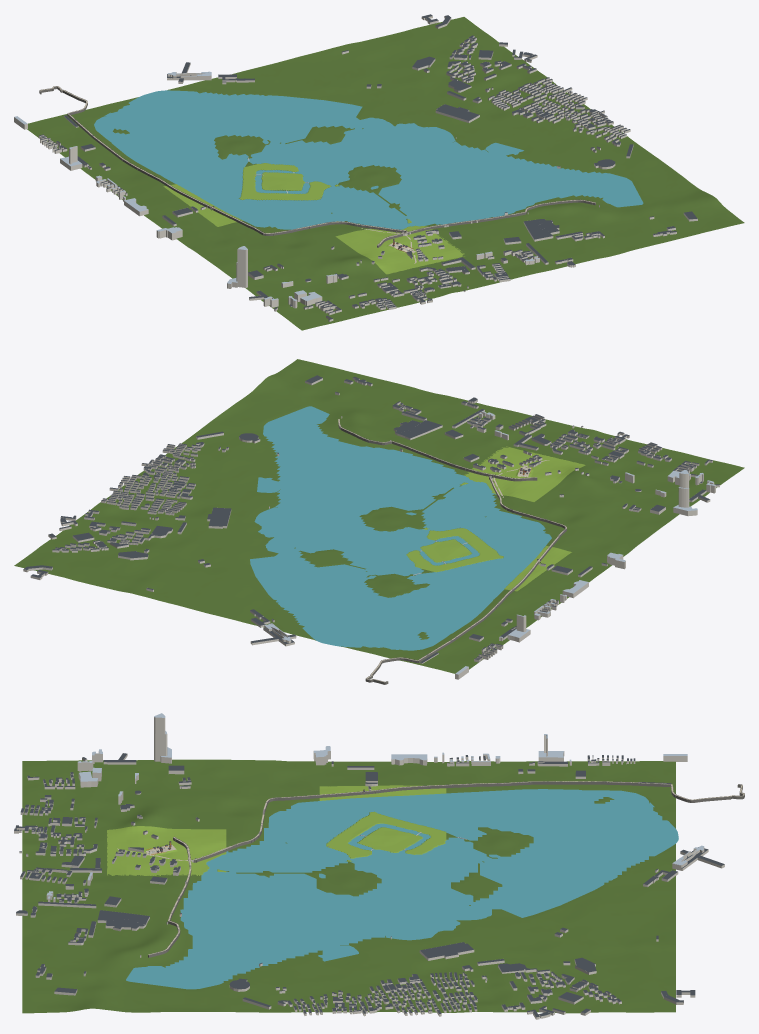
File: static.glb
The picture shows the model from 3 angles, top to bottom: view 1: azimuth 30°, elevation 25°; view 2: azimuth 150°, elevation 25°; view 3: azimuth 270°, elevation 25°; orthographic projection. The views are drawn at different scales.
Parts seen in each view (by area): view 1: Ground, Water, City, Temple, Walls; view 2: Ground, Water, City, Temple, Walls; view 3: Ground, Water, City, Temple, Walls.
Part boxes in pixels (x1=…): Ground: x1=27, y1=17, x2=744, y2=330; Water: x1=94, y1=90, x2=643, y2=250; City: x1=14, y1=16, x2=697, y2=321; Temple: x1=39, y1=14, x2=697, y2=319; Walls: x1=39, y1=86, x2=595, y2=247; Ground: x1=14, y1=359, x2=744, y2=682; Water: x1=250, y1=406, x2=551, y2=650; City: x1=23, y1=378, x2=719, y2=679; Temple: x1=23, y1=375, x2=719, y2=662; Walls: x1=338, y1=420, x2=566, y2=684; Ground: x1=22, y1=759, x2=744, y2=1013; Water: x1=126, y1=789, x2=678, y2=989; City: x1=14, y1=713, x2=724, y2=1019; Temple: x1=14, y1=753, x2=724, y2=1017; Walls: x1=148, y1=781, x2=744, y2=957.
Bounding box in the file's own units: 3388 × 276 × 3919.
